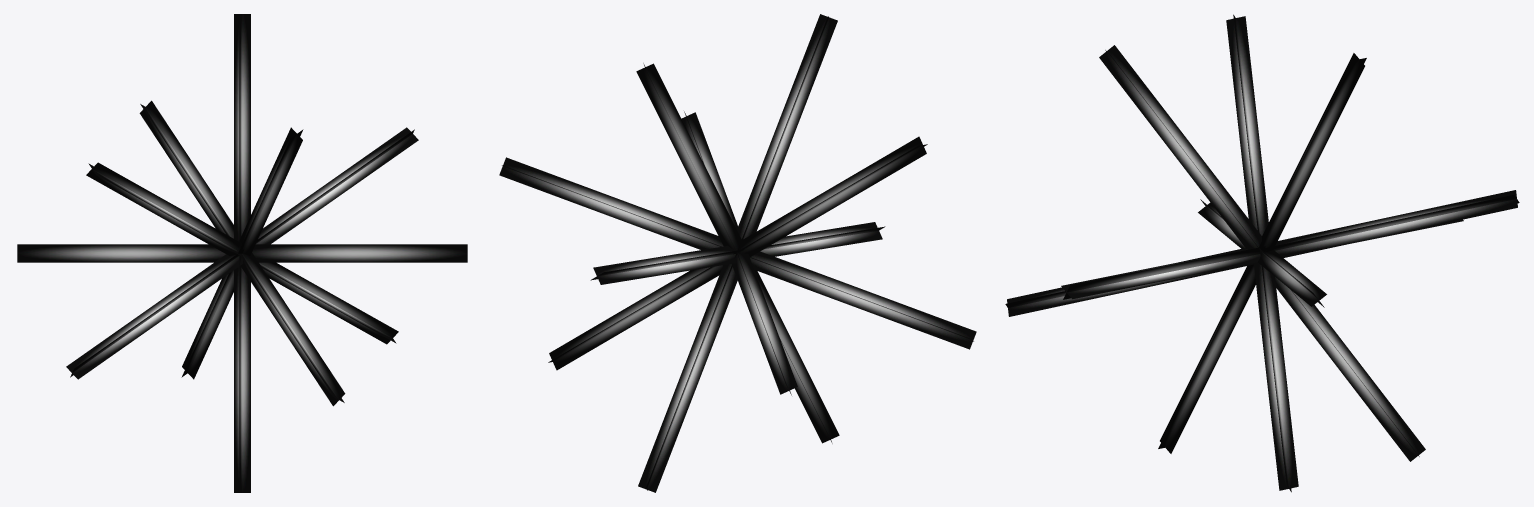
Rendered from vfx_kurp_1020.dae.
3 views of the same model, side by side, from view 1: azimuth 30°, elevation 25°; view 2: azimuth 150°, elevation 25°; view 3: azimuth 270°, elevation 25° (orthographic). The views are drawn at different scales.
Parts seen in each view (by area): view 1: vfx_kurp_1020; view 2: vfx_kurp_1020; view 3: vfx_kurp_1020.
Boxes of the visible parts, <box> form: vfx_kurp_1020: <box>17,14,467,492</box>; vfx_kurp_1020: <box>499,14,976,492</box>; vfx_kurp_1020: <box>1005,14,1519,492</box>.
Bounding box in the file's own units: 20.1 × 20.35 × 19.34.
Materials: 1 (1 with a texture image).
